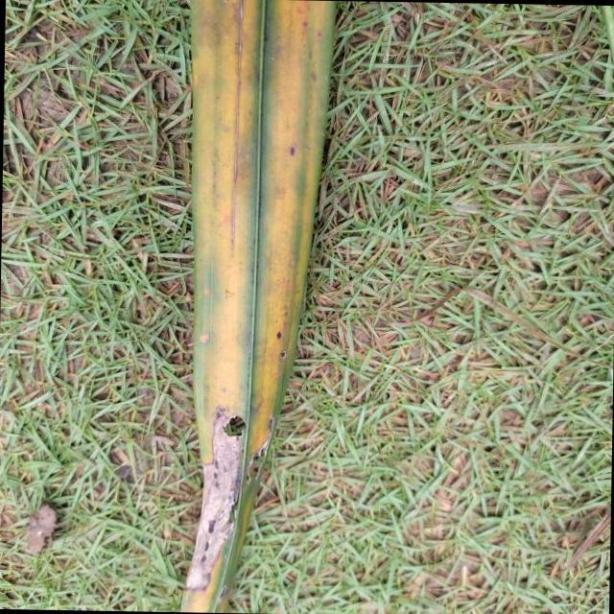Megnesium: (181, 0, 337, 598)
